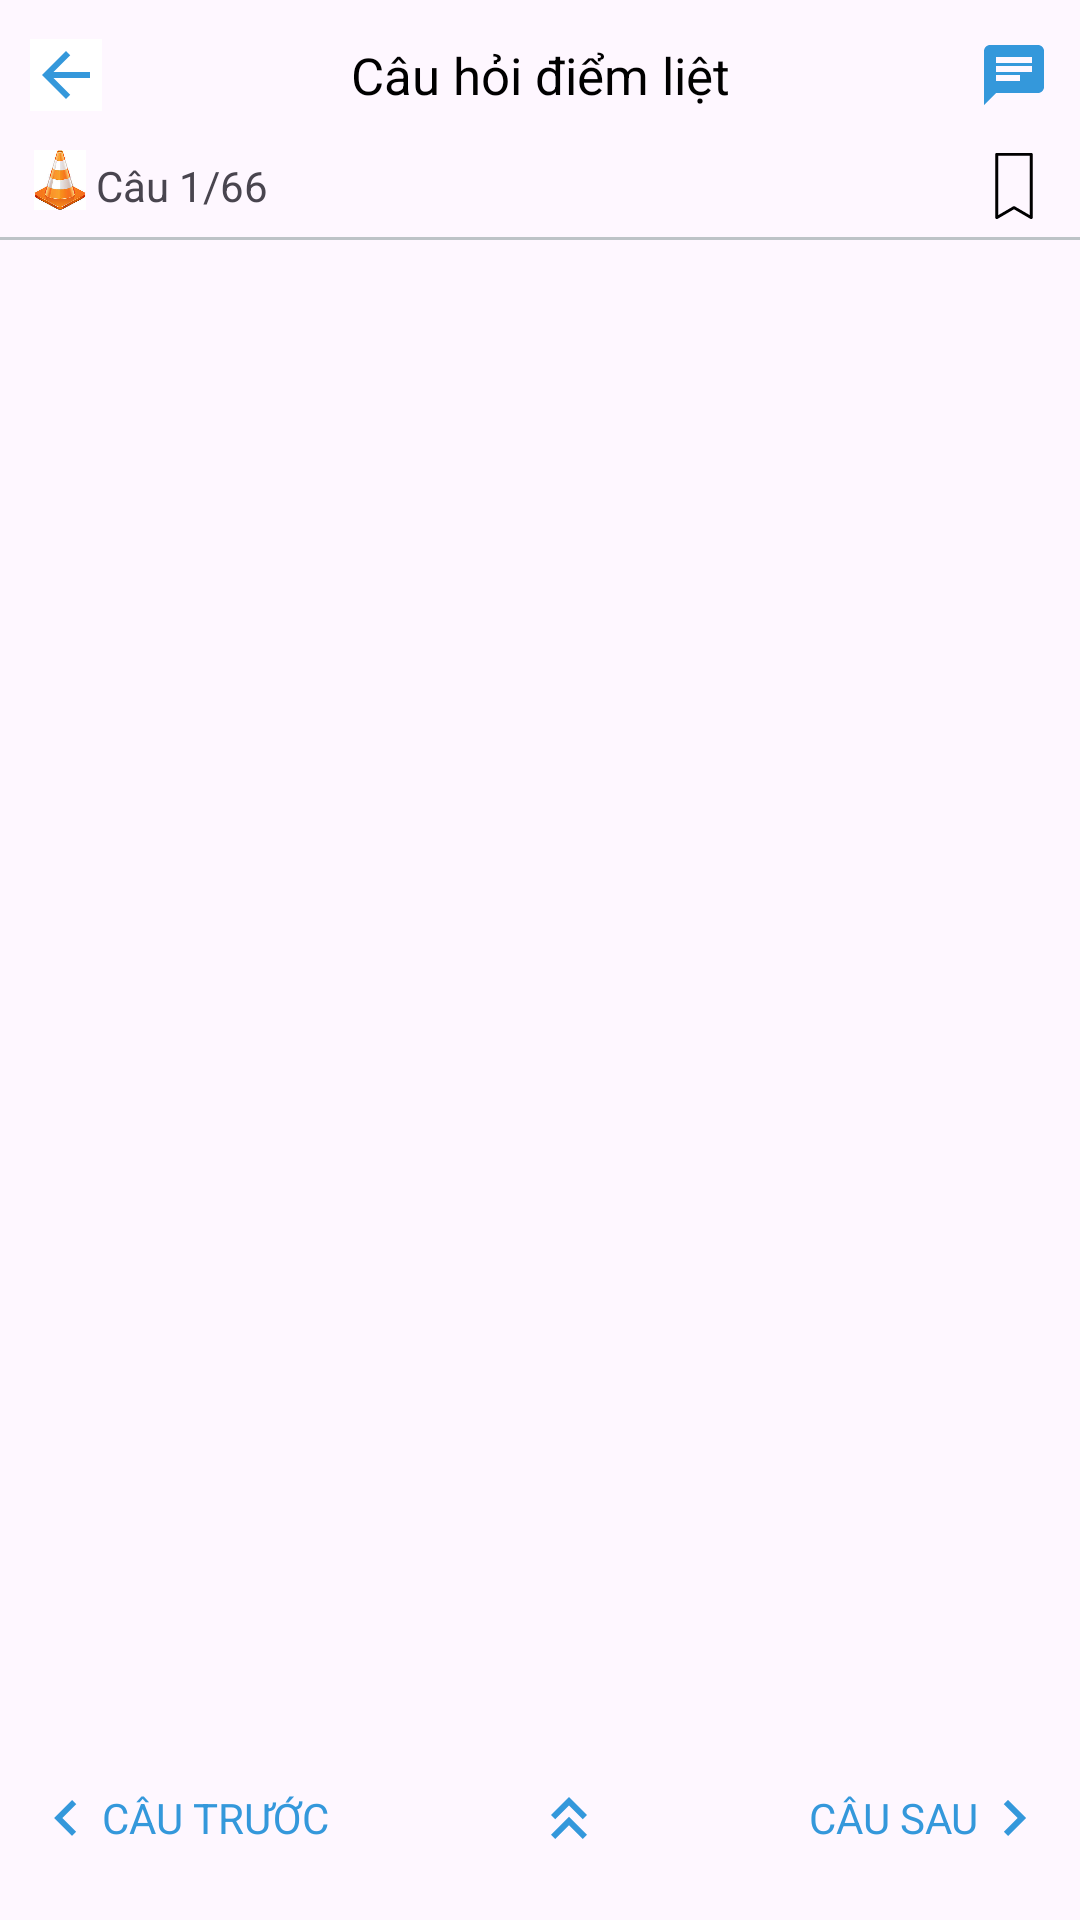

Screen size 1080×1920. Icon name, then its box in pixels as {"left": x1, "top": y1, "right": x2, "bottom": y2}:
Lưu: {"left": 995, "top": 153, "right": 1033, "bottom": 219}
